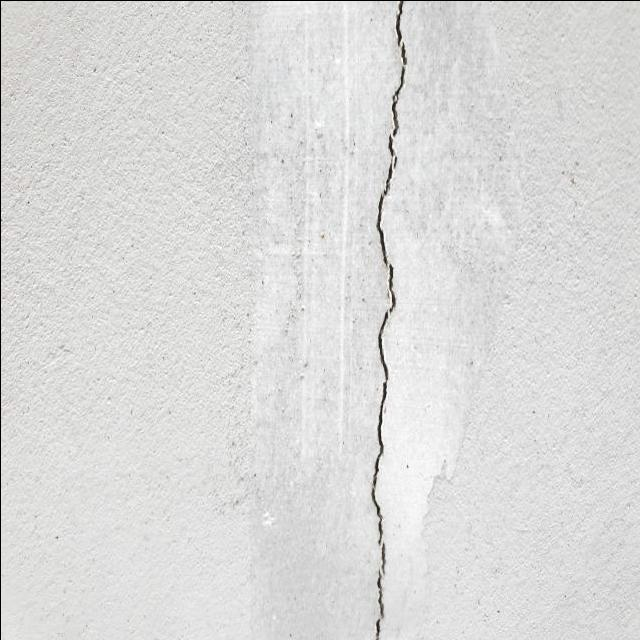SurfaceCrack: (320, 0, 444, 640)
